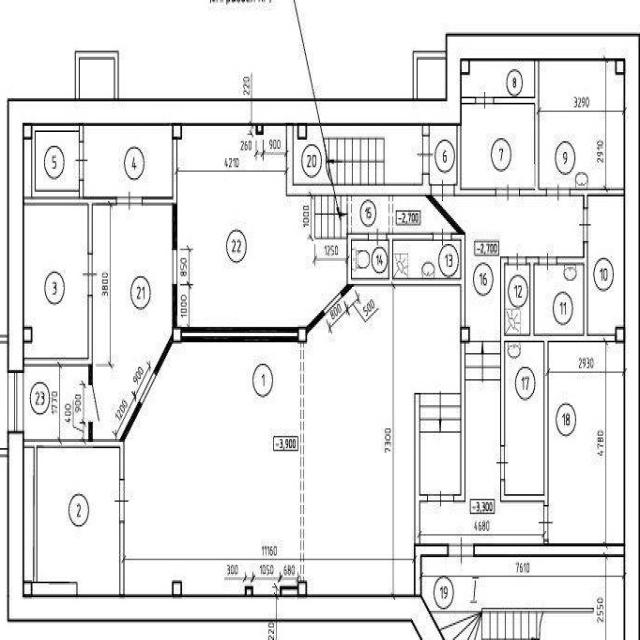Bathrooms: (506, 343, 543, 493), (535, 265, 582, 333), (392, 242, 460, 277), (505, 264, 529, 332), (352, 240, 388, 277)
Corridors: (178, 126, 346, 326), (436, 197, 583, 339), (421, 386, 544, 544), (94, 206, 172, 439), (431, 127, 456, 184)
Doors: (448, 534, 474, 566), (114, 480, 132, 520), (416, 136, 434, 174), (82, 254, 98, 295), (117, 187, 143, 212), (432, 176, 454, 204), (139, 373, 157, 405), (495, 181, 521, 203), (577, 207, 593, 242), (74, 141, 88, 180), (538, 506, 554, 540), (87, 385, 101, 423), (428, 488, 453, 509), (547, 181, 570, 203), (475, 87, 494, 113), (495, 446, 509, 479), (323, 291, 342, 315), (508, 248, 526, 273), (539, 249, 557, 272), (368, 225, 386, 246), (434, 225, 451, 246), (172, 250, 177, 284)
LBwalls: (7, 33, 640, 639), (7, 430, 445, 640), (473, 543, 625, 557), (414, 543, 449, 595), (23, 580, 78, 596), (280, 586, 298, 596), (172, 329, 183, 345), (171, 580, 182, 596), (460, 326, 470, 343), (615, 326, 625, 343), (297, 326, 307, 343), (297, 124, 307, 140), (461, 59, 471, 75), (23, 326, 32, 343), (23, 123, 32, 140), (173, 123, 182, 140), (298, 580, 307, 596), (616, 59, 625, 75), (244, 587, 254, 596), (256, 124, 264, 135)
Offices: (126, 286, 460, 595), (549, 344, 623, 543), (38, 449, 119, 594), (541, 61, 622, 188), (26, 207, 87, 357), (84, 126, 172, 196), (463, 106, 534, 189), (589, 198, 623, 334), (24, 369, 88, 439), (24, 126, 78, 196), (461, 61, 533, 98)
Stairs: (422, 557, 623, 640), (295, 126, 422, 183), (313, 196, 457, 241), (420, 391, 460, 494), (465, 340, 501, 385)
Walls: (500, 240, 615, 506), (346, 195, 466, 327), (23, 439, 125, 582), (285, 124, 433, 197), (494, 60, 546, 197), (25, 179, 117, 254), (24, 294, 93, 385), (142, 140, 177, 250), (453, 126, 496, 196), (74, 50, 119, 99), (414, 392, 428, 543), (454, 342, 466, 502), (182, 327, 298, 343), (500, 255, 509, 446), (412, 50, 446, 97), (570, 188, 624, 208), (120, 401, 143, 441), (154, 334, 173, 377), (119, 520, 125, 596), (306, 310, 325, 333), (172, 284, 177, 326), (340, 284, 353, 299), (422, 124, 430, 137), (462, 97, 475, 104), (88, 422, 93, 439), (79, 125, 83, 142), (0, 448, 8, 456), (0, 335, 7, 343)
Windows: (7, 371, 25, 431)
